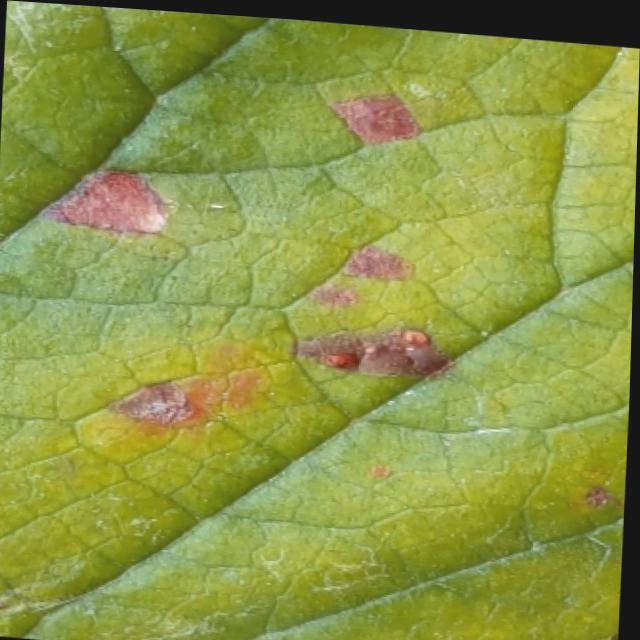Angular Leafspot: (39, 36, 640, 526)
